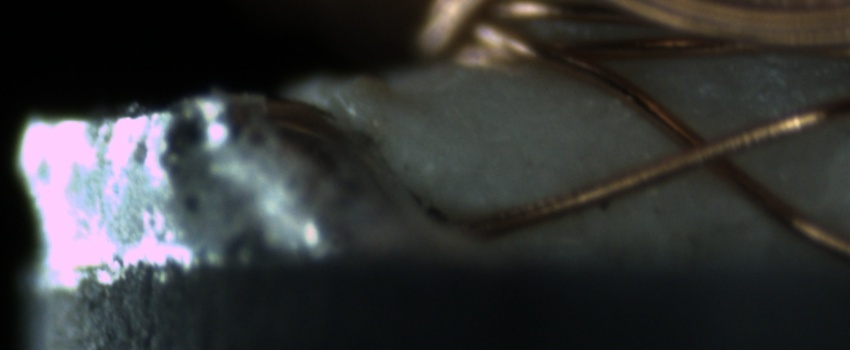CL: (658, 120, 759, 183)
